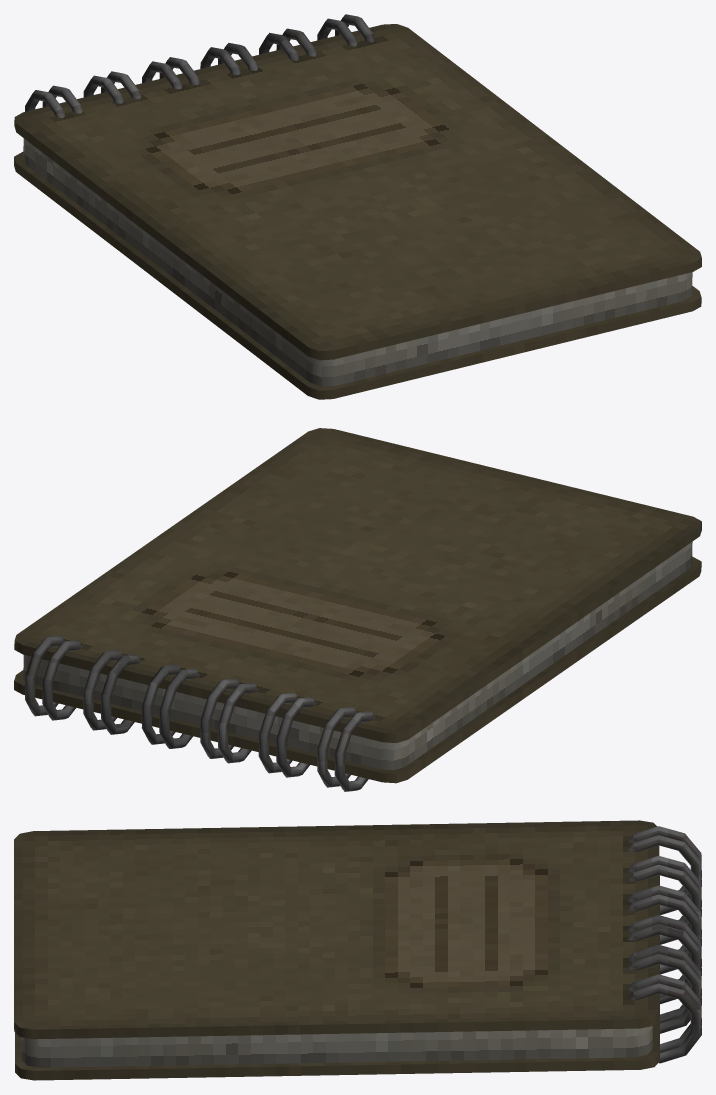
The model's file is notebook_1.glb.
3 renders of one model, top to bottom at view 1: azimuth 30°, elevation 25°; view 2: azimuth 150°, elevation 25°; view 3: azimuth 270°, elevation 25°, orthographic. The views are drawn at different scales.
Visible parts, largest first — view 1: notebook_1; view 2: notebook_1; view 3: notebook_1.
Boxes of the visible parts, left/top/right/bottom form: notebook_1: left=14, top=14, right=701, bottom=399; notebook_1: left=14, top=428, right=701, bottom=791; notebook_1: left=14, top=820, right=701, bottom=1080.
Bounding box in the file's own units: 0.1474 × 0.0278 × 0.2158.
2 materials, 2 textured.
